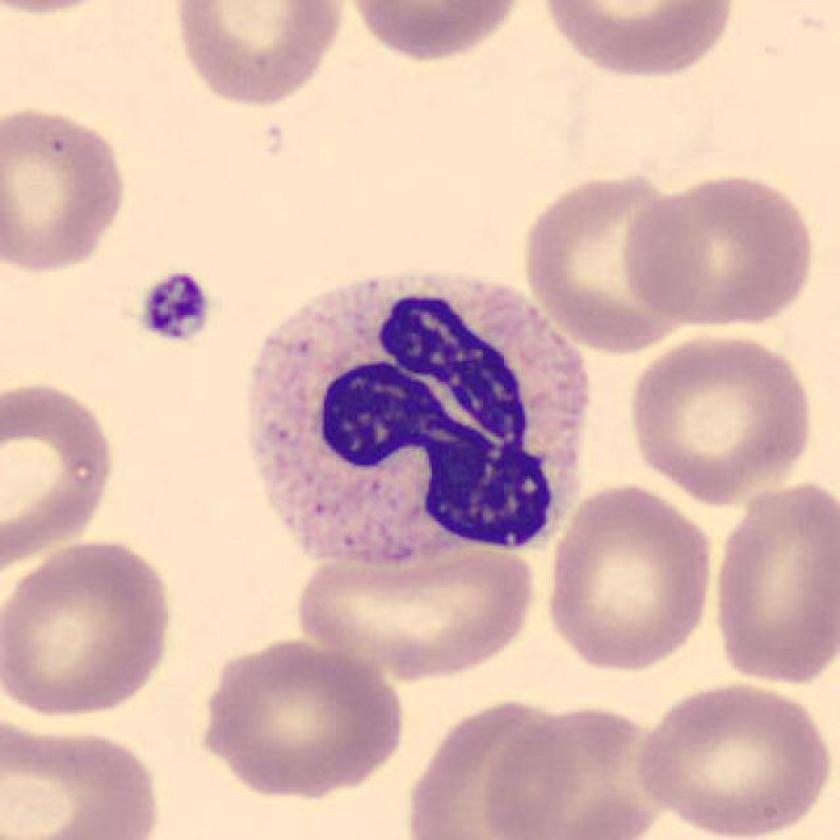neutrophil: (245, 275, 590, 567)
